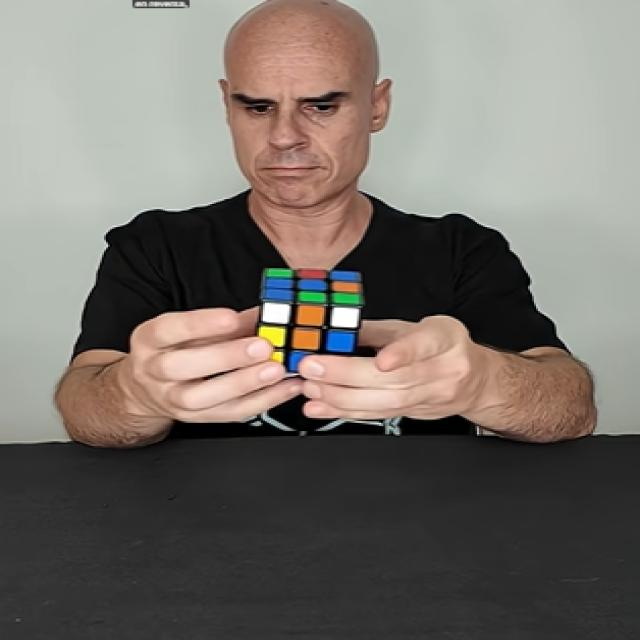Cubo-No-resuelto: (257, 268, 363, 372)
